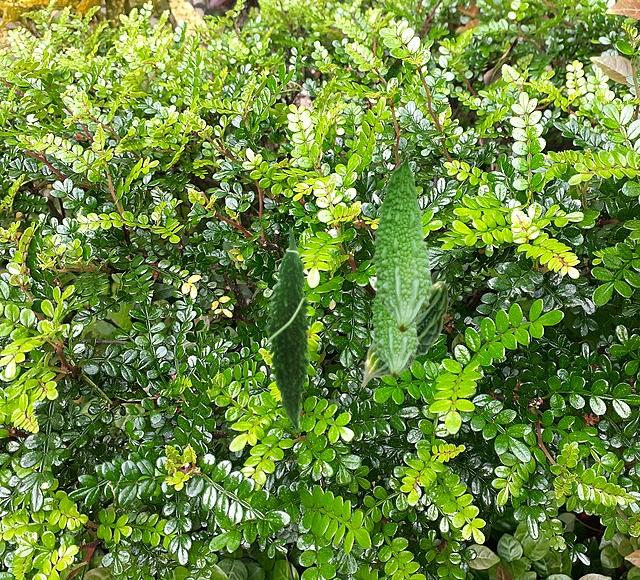ampalaya: (369, 152, 435, 333), (263, 226, 318, 432), (360, 280, 449, 387), (368, 282, 420, 378)
